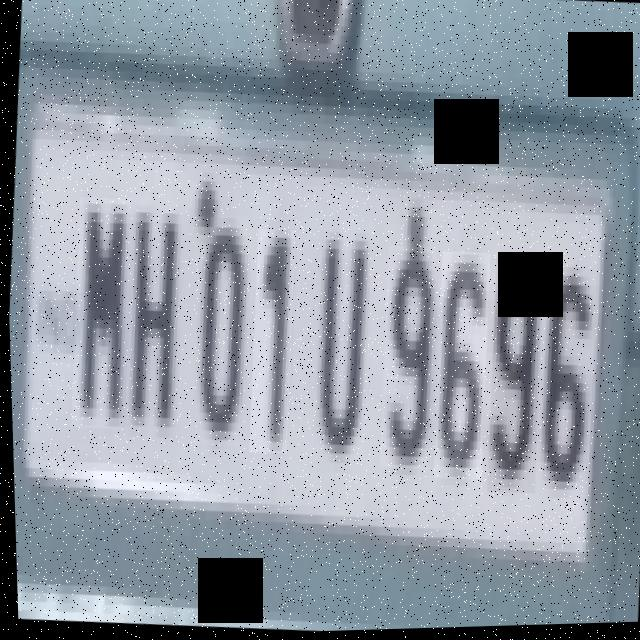0: (186, 214, 251, 449)
1: (240, 229, 299, 456)
6: (425, 253, 493, 483), (532, 265, 599, 494)
9: (478, 259, 547, 498), (372, 246, 440, 472)
H: (119, 206, 191, 436)
M: (63, 196, 135, 431)
U: (306, 220, 377, 466)
